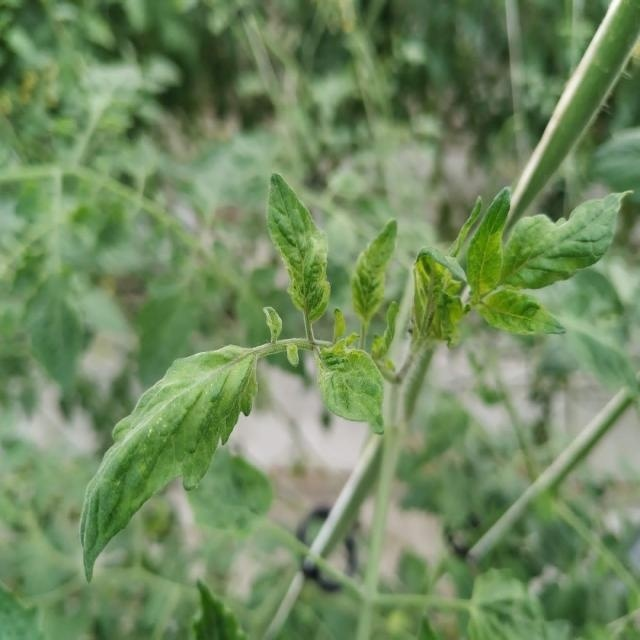T_L_R: (81, 346, 257, 581), (501, 194, 626, 289), (269, 174, 331, 343), (316, 341, 385, 434), (469, 189, 511, 306), (479, 289, 566, 336)
